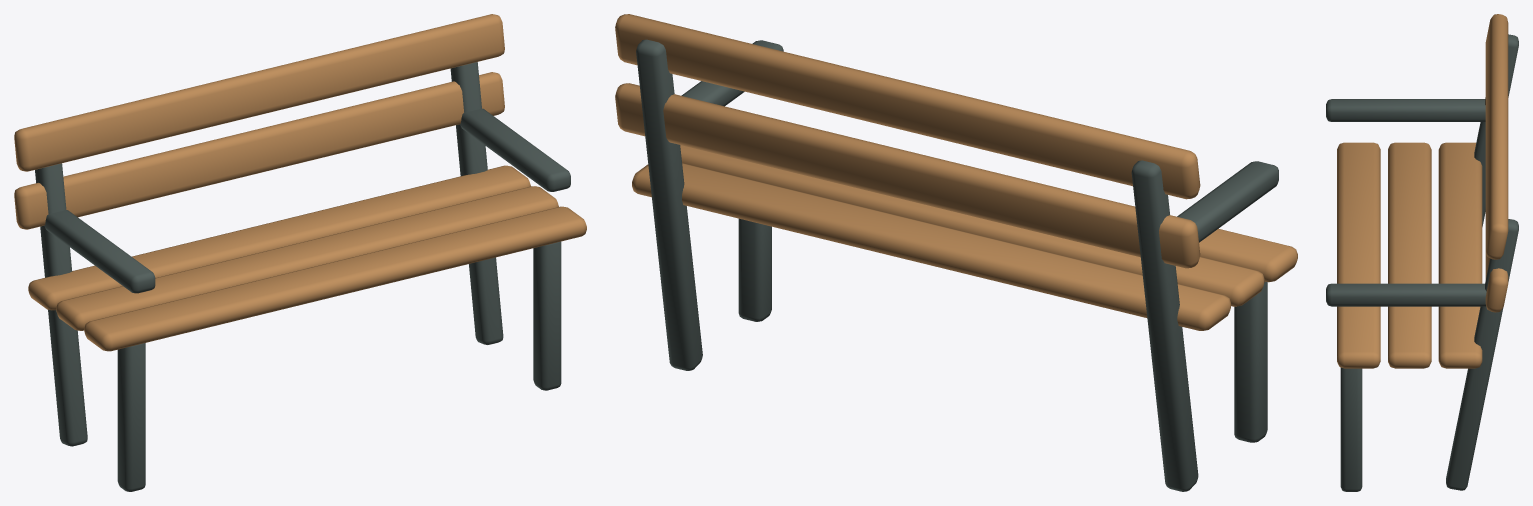
The model's file is bench.glb.
3 renders of one model, left to right at view 1: azimuth 30°, elevation 25°; view 2: azimuth 150°, elevation 25°; view 3: azimuth 270°, elevation 25°, orthographic. The views are drawn at different scales.
Parts seen in each view (by area): view 1: bench.001; view 2: bench.001; view 3: bench.001.
Boxes of the visible parts, <box> form: bench.001: <box>14,14,586,491</box>; bench.001: <box>615,14,1297,491</box>; bench.001: <box>1326,14,1518,491</box>.
Bounding box in the file's own units: 1.4 × 0.845 × 0.5302.
